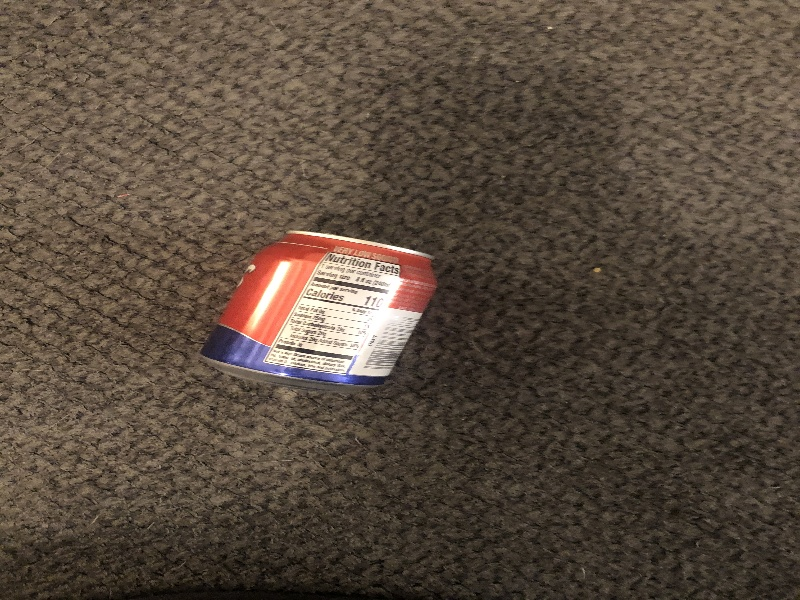metal: (195, 225, 442, 397)
